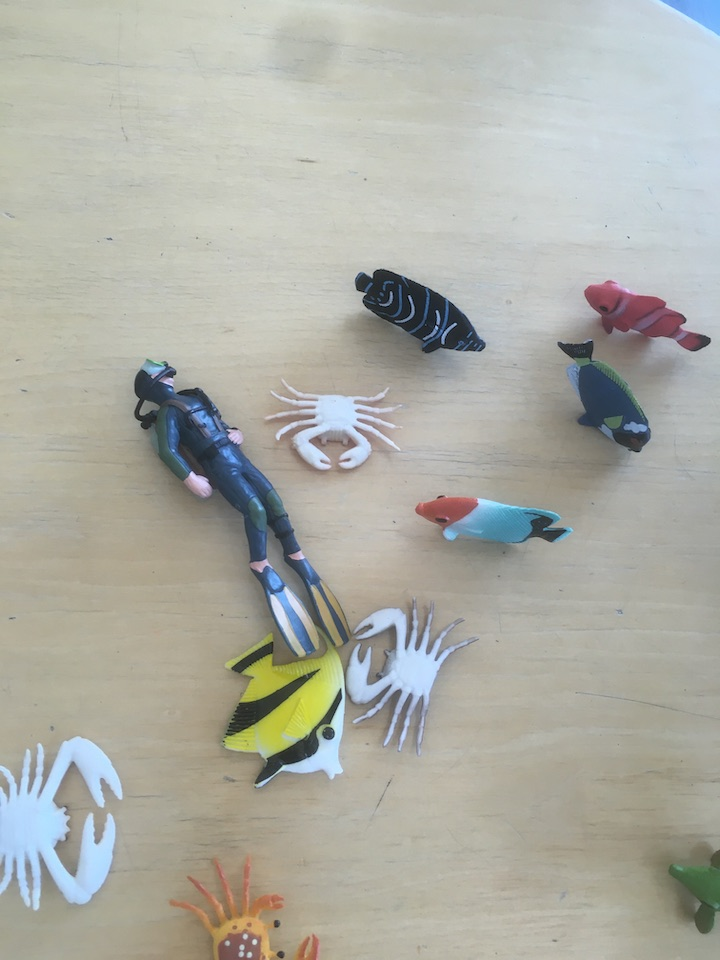crab: (1, 733, 127, 914), (341, 596, 481, 758), (168, 854, 324, 960), (259, 375, 405, 476)
danger: (214, 633, 352, 789)
diver: (127, 352, 358, 659)
fish: (350, 263, 490, 358), (553, 332, 656, 458), (410, 487, 573, 552), (581, 275, 715, 352), (670, 842, 720, 937)
